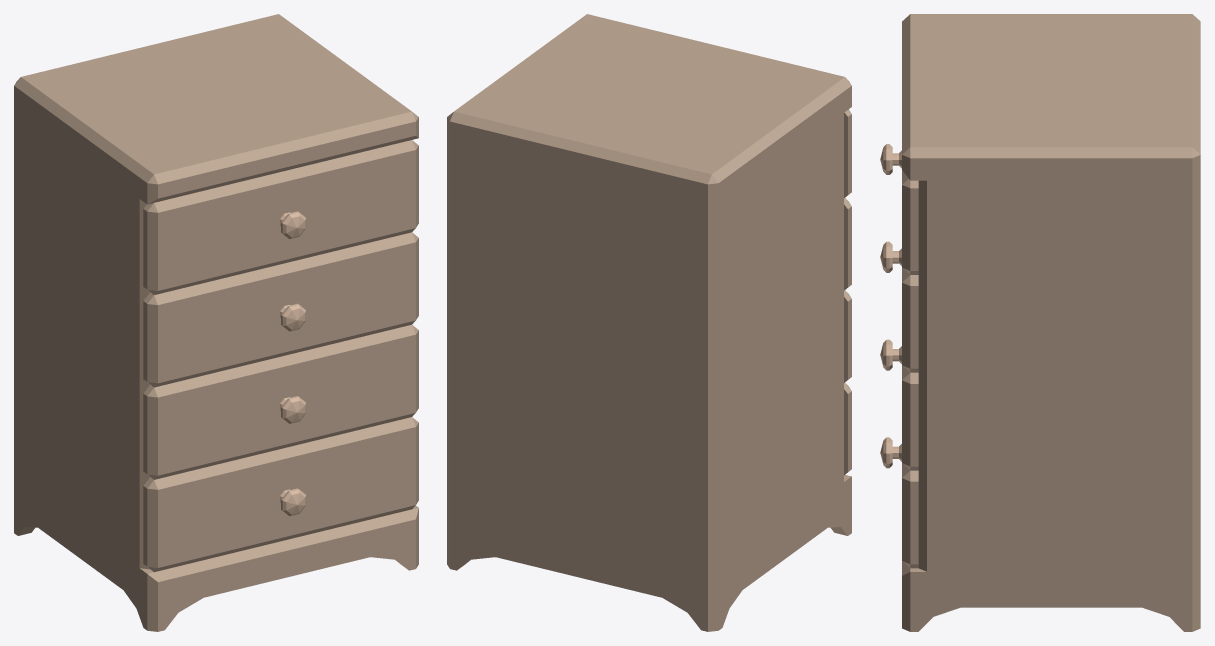
File: Prop_Bedroom_Dresser_Tall.fbx
3 views of the same model, side by side, from view 1: azimuth 30°, elevation 25°; view 2: azimuth 150°, elevation 25°; view 3: azimuth 270°, elevation 25° (orthographic). The views are drawn at different scales.
Visible parts, largest first — view 1: object2.009, object4.006, object1.012, object3.007, object5.004; view 2: object2.009, object3.007, object4.006, object1.012, object5.004; view 3: object2.009, object4.006, object3.007, object1.012, object5.004.
Boxes of the visible parts, bbox=[...] form: object2.009: bbox=[14, 14, 418, 631]; object4.006: bbox=[143, 324, 418, 479]; object1.012: bbox=[143, 232, 418, 387]; object3.007: bbox=[143, 417, 418, 572]; object5.004: bbox=[143, 140, 418, 294]; object2.009: bbox=[447, 14, 851, 631]; object3.007: bbox=[844, 382, 851, 475]; object4.006: bbox=[844, 290, 851, 382]; object1.012: bbox=[844, 198, 851, 290]; object5.004: bbox=[844, 109, 851, 197]; object2.009: bbox=[902, 14, 1200, 631]; object4.006: bbox=[880, 339, 918, 470]; object3.007: bbox=[880, 437, 918, 568]; object1.012: bbox=[880, 241, 918, 372]; object5.004: bbox=[880, 144, 918, 274].
Size of the model in its own units: 100 by 160 by 96.56.
